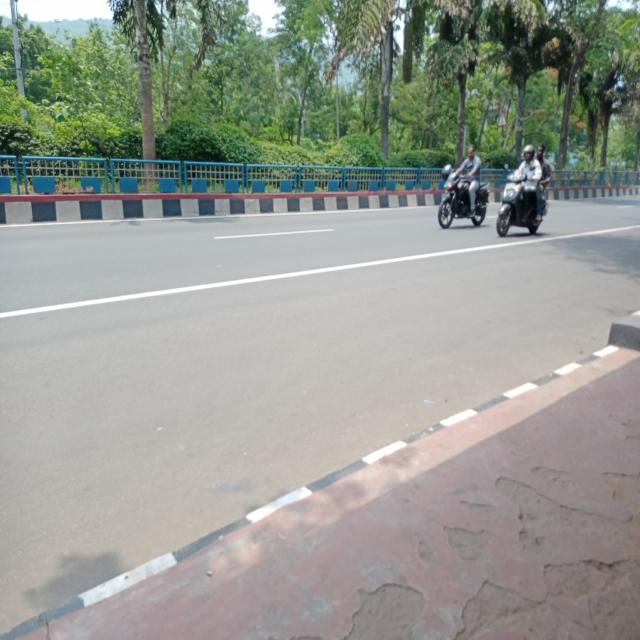bike: (496, 164, 558, 250), (431, 163, 493, 230)
